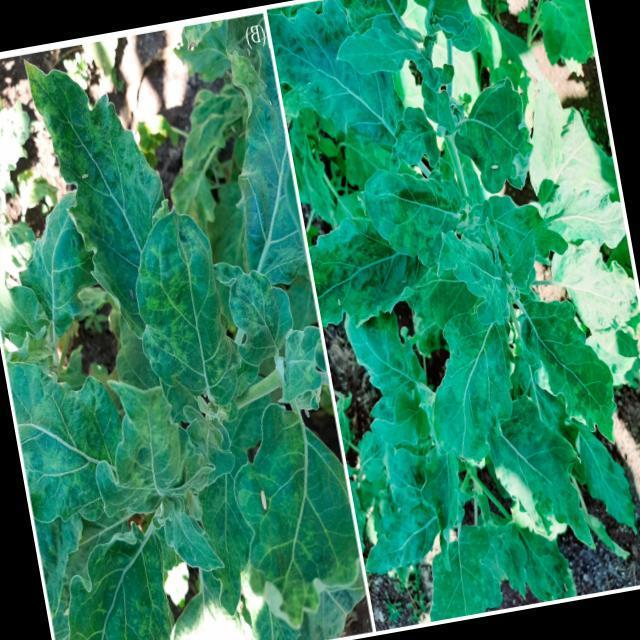Mosaic Virus: (17, 39, 184, 316), (229, 404, 359, 616), (128, 195, 236, 406), (3, 351, 128, 531), (208, 82, 310, 288), (414, 308, 529, 486), (519, 280, 625, 473), (269, 0, 388, 153), (38, 523, 180, 640), (8, 179, 100, 345), (88, 378, 193, 518), (448, 70, 543, 206), (345, 450, 444, 578), (307, 216, 408, 324), (152, 458, 234, 588), (363, 166, 462, 273), (218, 254, 302, 374), (466, 504, 538, 608), (336, 4, 430, 82)
